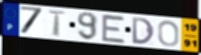7: (19, 5, 44, 37)
9: (77, 11, 100, 42)
D: (131, 16, 156, 45)
E: (100, 13, 127, 45)
O: (157, 20, 181, 48)
T: (46, 9, 68, 38)
